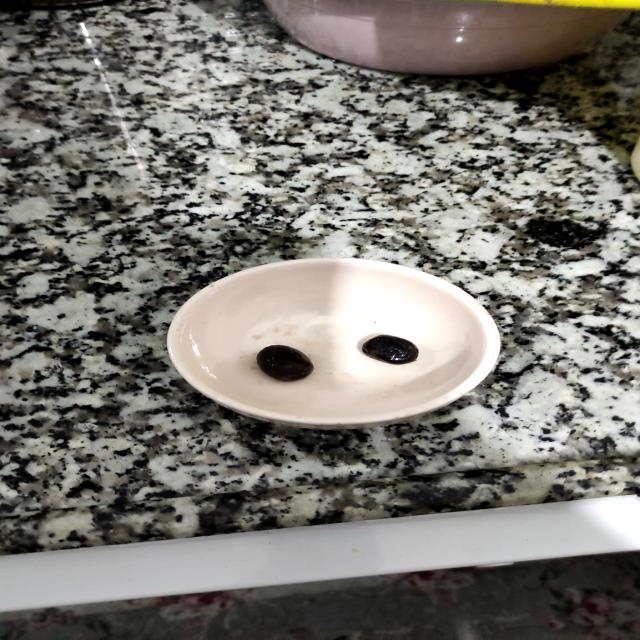olive: (233, 336, 326, 386), (353, 324, 424, 371)
